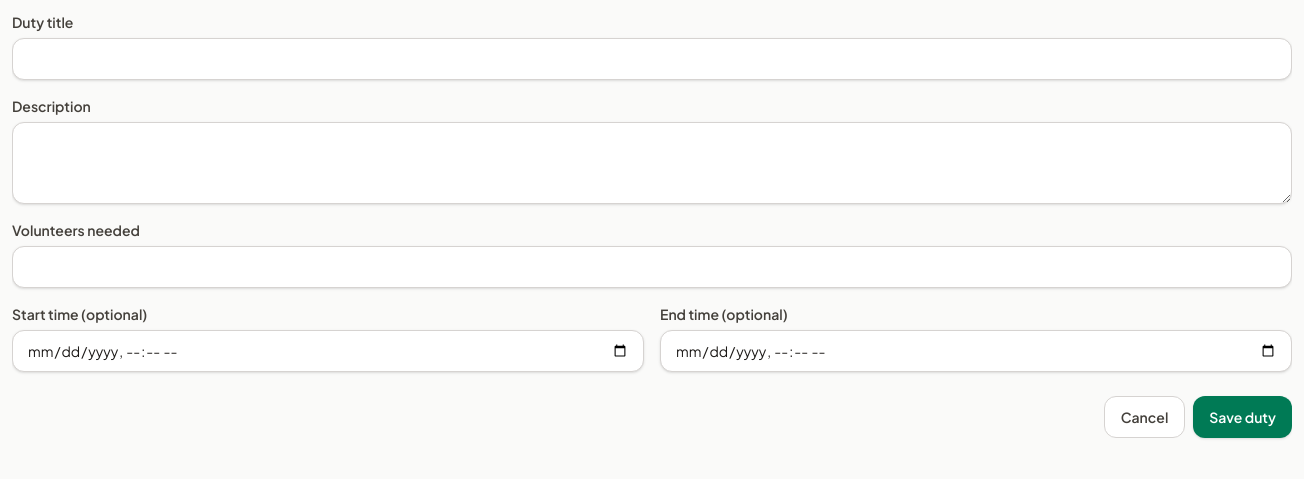
Test: DutyForm › rejects an end time before the start time
Type "Logistics" into the field labelled "Duty title" at (652, 59), box [12,38,1292,80]
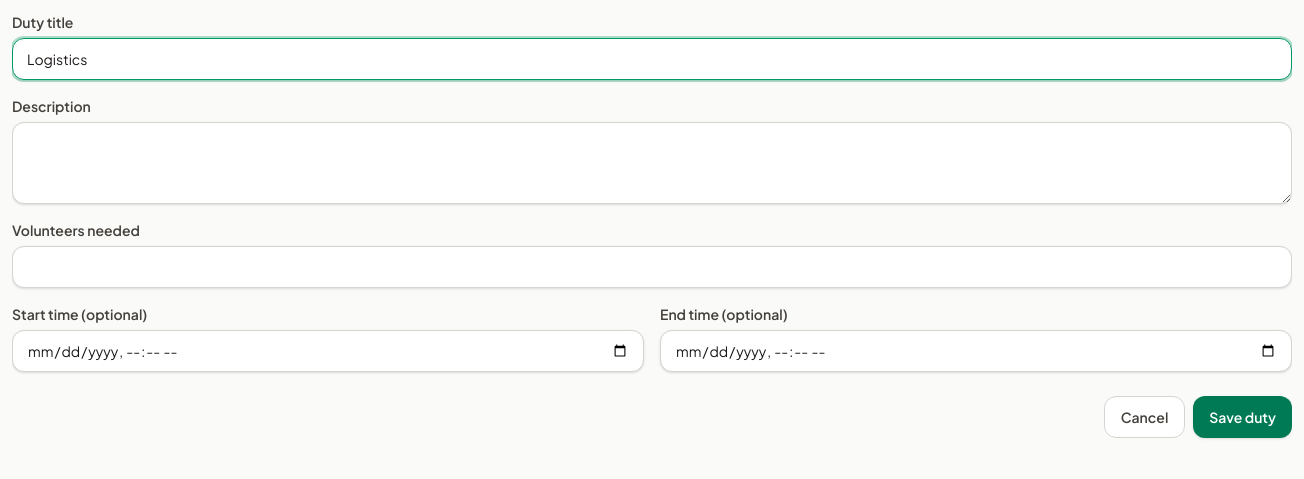
Type "Carry chairs" into the text box labelled "Description" at (652, 163), box [12,122,1292,204]
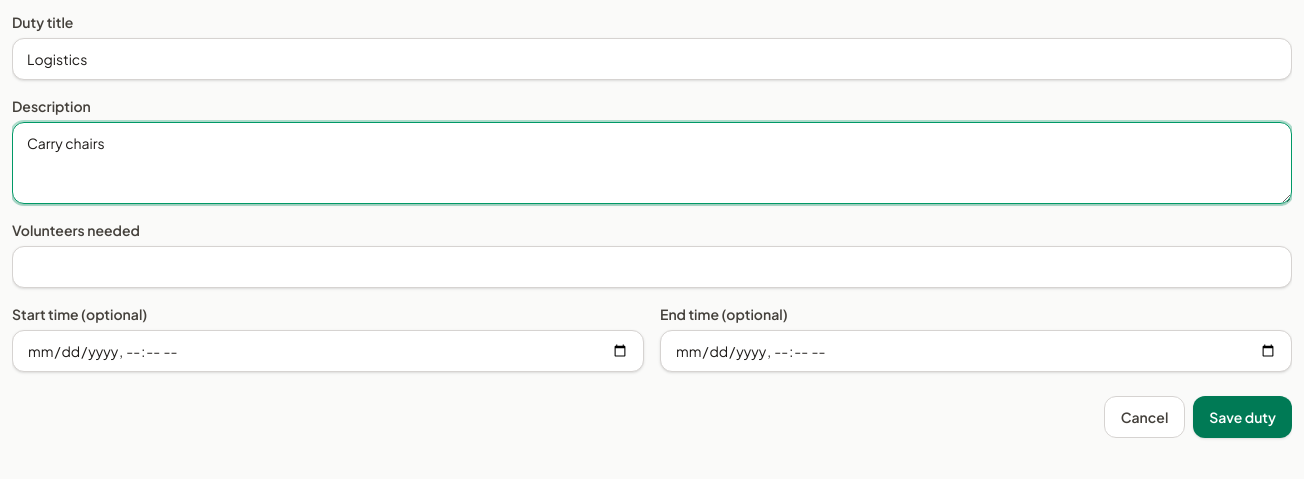
Type "3" into the number field labelled "Volunteers needed" at (652, 267), box [12,246,1292,288]
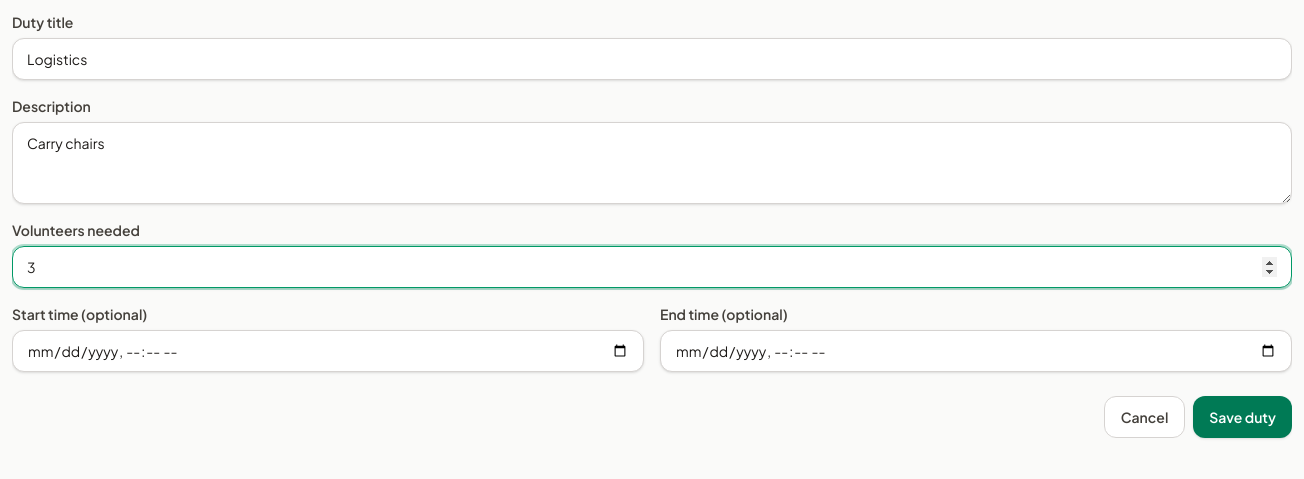
Type "2030-05-01T12:00" into the field labelled "Start time (optional)" at (328, 351), box [12,330,644,372]
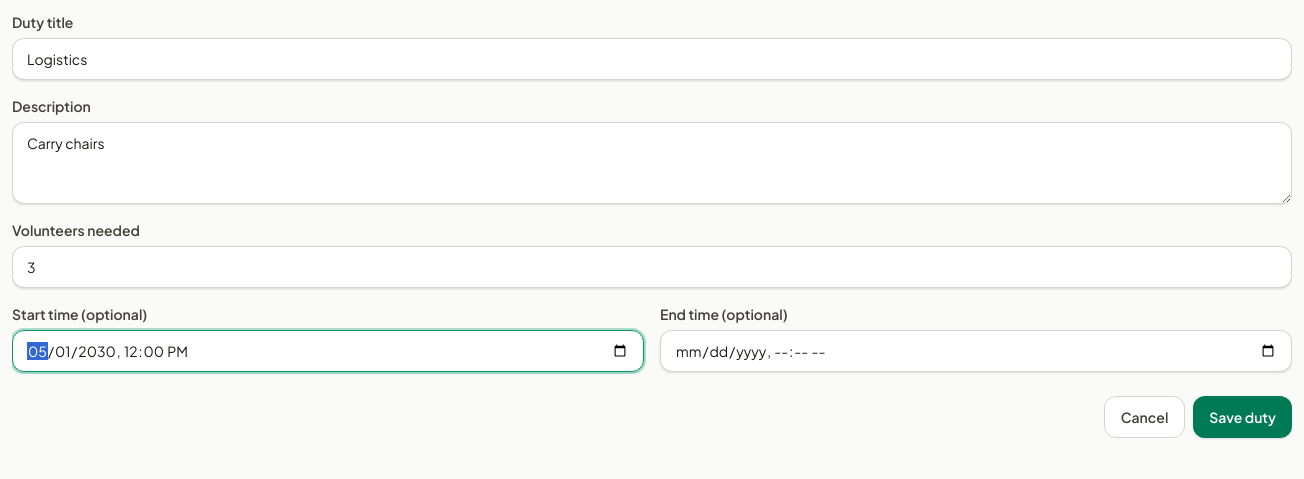
Type "2030-05-01T10:00" into the field labelled "End time (optional)" at (976, 351), box [660,330,1292,372]
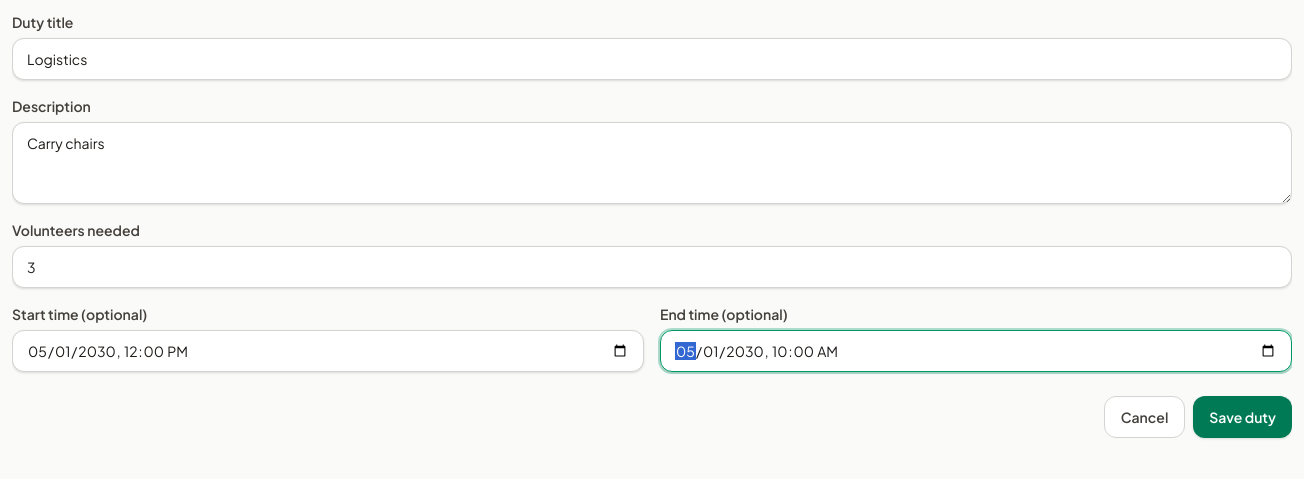
Click the button "Save duty" at (1243, 417), box [1193,396,1292,438]
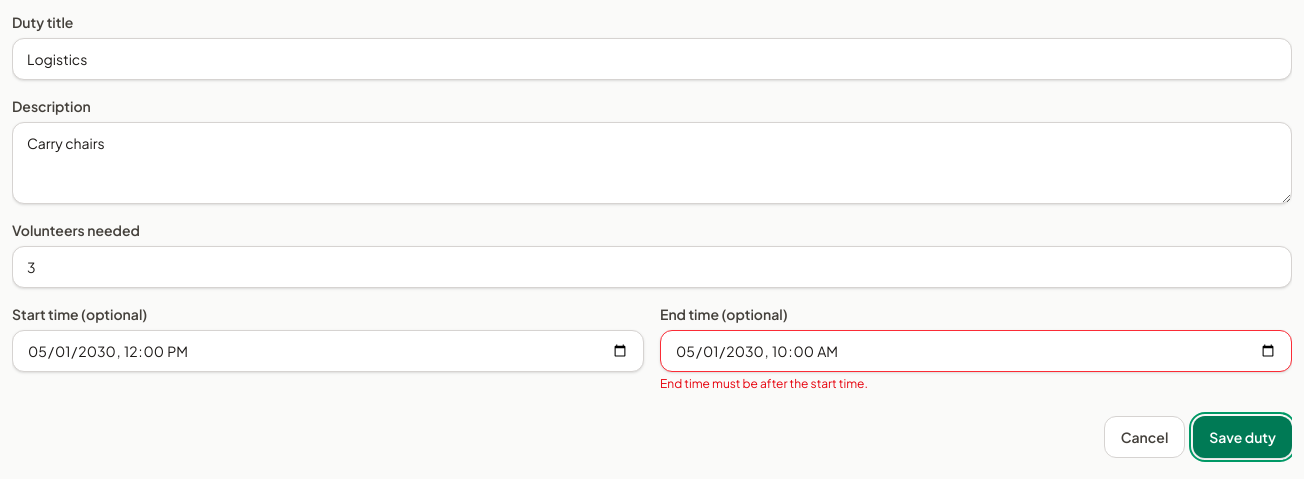
Now the text "End time must be after the start time." is shown, box [660,376,868,391]
